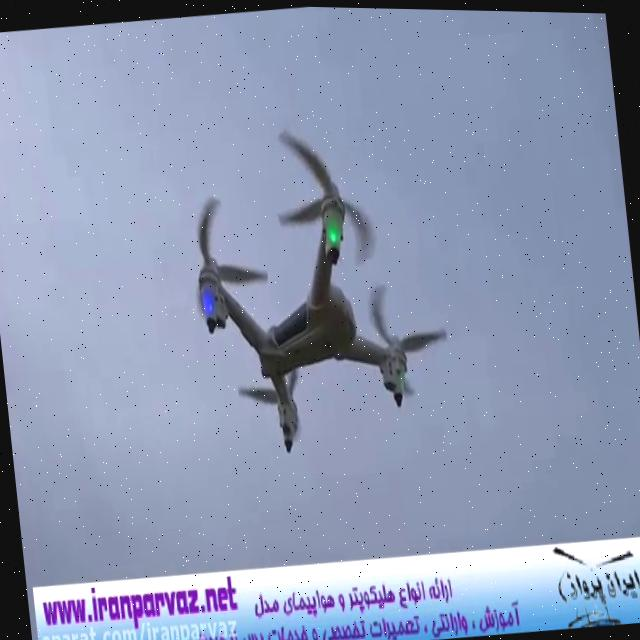drone: (164, 99, 464, 475)
